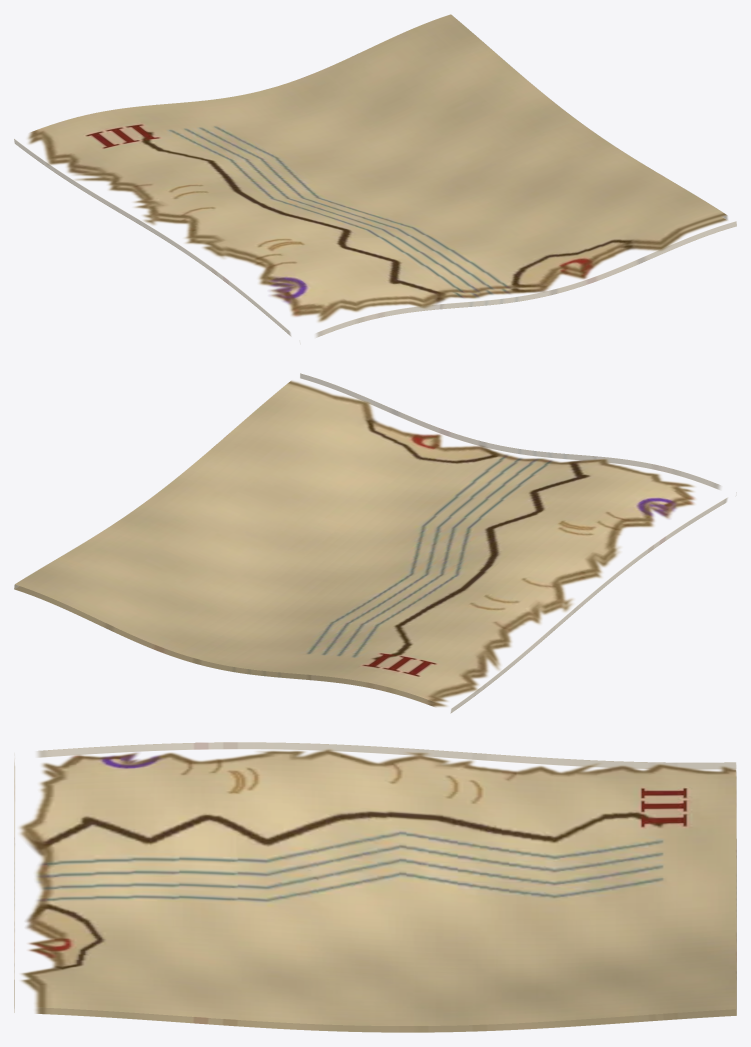
Rendered from kartenstueck_3.glb.
The picture shows the model from 3 angles, top to bottom: view 1: azimuth 30°, elevation 25°; view 2: azimuth 150°, elevation 25°; view 3: azimuth 270°, elevation 25°; orthographic projection. The views are drawn at different scales.
Visible parts, largest first — view 1: kartenstueck_3; view 2: kartenstueck_3; view 3: kartenstueck_3.
Boxes of the visible parts, x1,y1,x2,y2 form: kartenstueck_3: [14, 14, 736, 337]; kartenstueck_3: [14, 373, 736, 713]; kartenstueck_3: [14, 742, 736, 1032].
Bounding box in the file's own units: 0.1361 × 0.0135 × 0.1541.
1 material, 1 textured.
